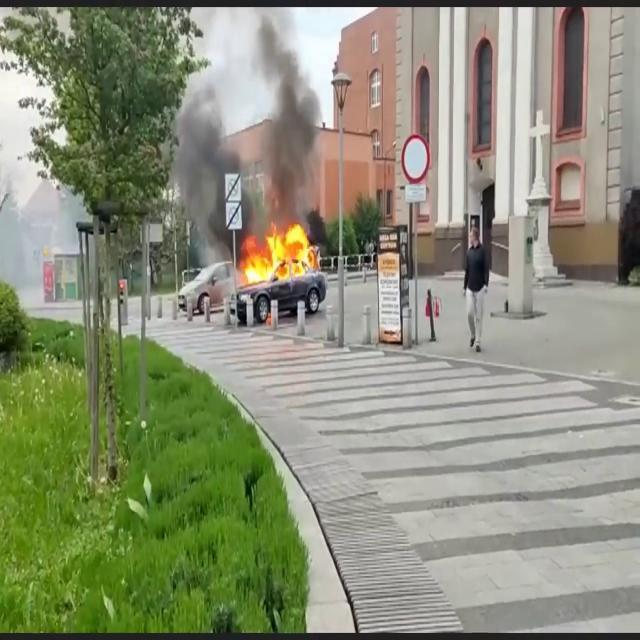Fire: (240, 216, 318, 283)
Smoke: (166, 2, 330, 226)
